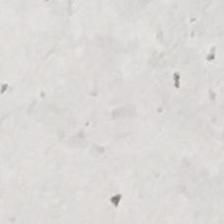Non_Crack: (14, 15, 143, 187)
